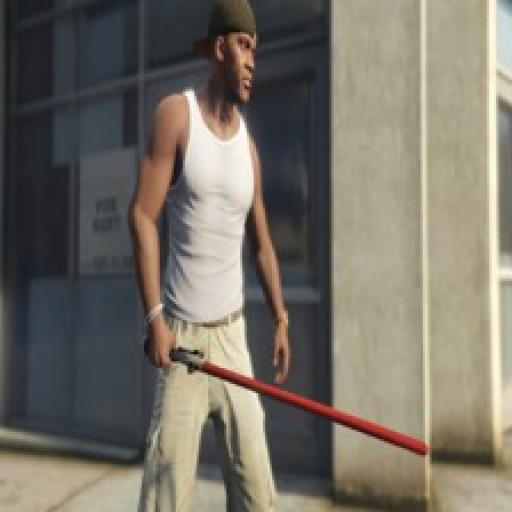human: (127, 0, 292, 512)
sith saber: (146, 339, 428, 457)
